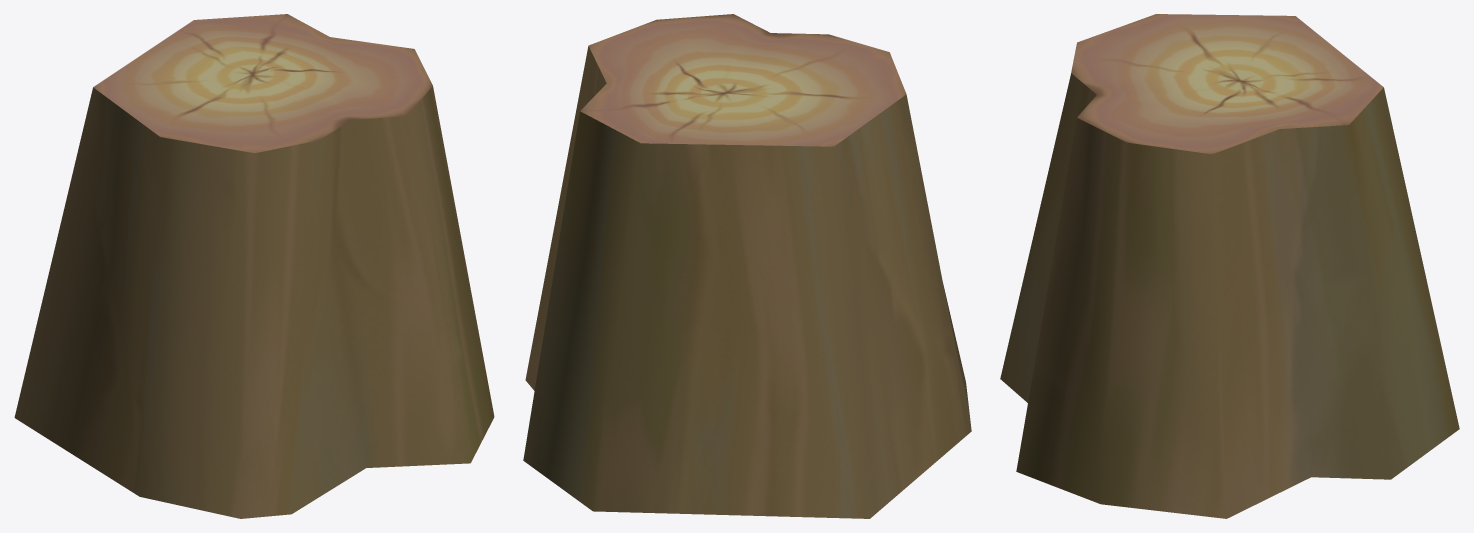
The model's file is m_env_collect_tree_cedar_stump_01_lod2.fbx.
The picture shows the model from 3 angles, left to right: view 1: azimuth 30°, elevation 25°; view 2: azimuth 150°, elevation 25°; view 3: azimuth 270°, elevation 25°; orthographic projection. The views are drawn at different scales.
Parts seen in each view (by area): view 1: m_env_collect_tree_cedar_stump_01_lod2; view 2: m_env_collect_tree_cedar_stump_01_lod2; view 3: m_env_collect_tree_cedar_stump_01_lod2.
Part boxes in pixels (x1,y1,x2,y2): m_env_collect_tree_cedar_stump_01_lod2: (14, 14, 494, 518); m_env_collect_tree_cedar_stump_01_lod2: (523, 14, 971, 518); m_env_collect_tree_cedar_stump_01_lod2: (1000, 14, 1459, 518).
Size of the model in its own units: 110 by 89.67 by 110.
